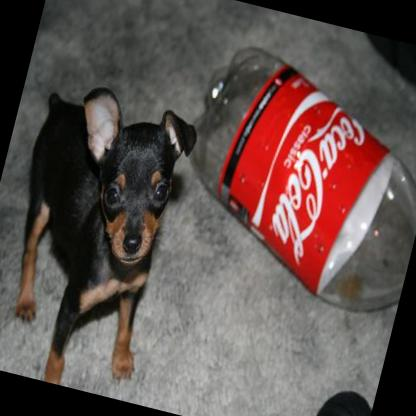miniature_pinscher: (0, 68, 205, 401)
